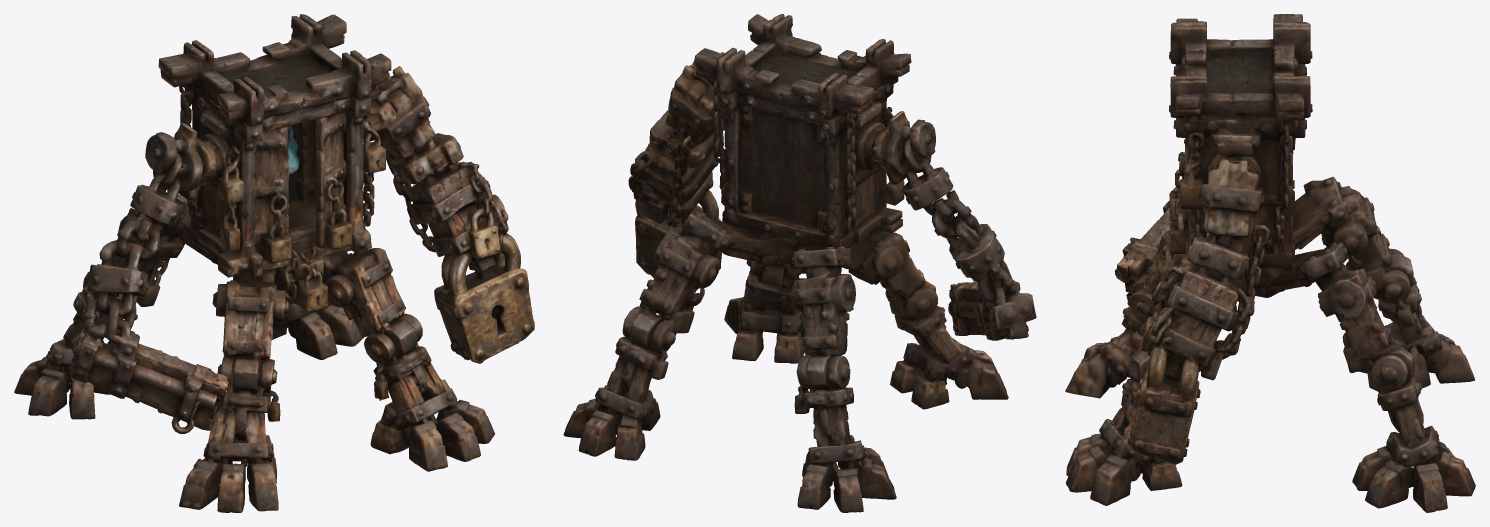
Rendered from latch_tripo_segmented.glb.
The picture shows the model from 3 angles, left to right: view 1: azimuth 30°, elevation 25°; view 2: azimuth 150°, elevation 25°; view 3: azimuth 270°, elevation 25°; orthographic projection. The views are drawn at different scales.
Parts seen in each view (by area): view 1: tripo_part_0, tripo_part_5, tripo_part_1, tripo_part_3, tripo_part_7, tripo_part_22, tripo_part_14, tripo_part_28, tripo_part_13, tripo_part_19, tripo_part_21, tripo_part_40 (+43 smaller); view 2: tripo_part_0, tripo_part_4, tripo_part_6, tripo_part_5, tripo_part_8, tripo_part_7, tripo_part_21, tripo_part_15, tripo_part_3, tripo_part_23, tripo_part_32, tripo_part_17 (+37 smaller); view 3: tripo_part_0, tripo_part_3, tripo_part_1, tripo_part_7, tripo_part_9, tripo_part_6, tripo_part_4, tripo_part_8, tripo_part_10, tripo_part_5, tripo_part_15, tripo_part_17 (+28 smaller).
Boxes of the visible parts, x1,y1,x2,y2 form: tripo_part_0: (158, 14, 391, 290); tripo_part_5: (69, 306, 228, 433); tripo_part_1: (434, 233, 534, 363); tripo_part_3: (408, 161, 508, 256); tripo_part_7: (363, 66, 435, 160); tripo_part_22: (332, 255, 404, 337); tripo_part_14: (254, 127, 288, 253); tripo_part_28: (226, 280, 276, 363); tripo_part_13: (314, 112, 346, 248); tripo_part_19: (373, 346, 449, 413); tripo_part_21: (124, 152, 186, 265); tripo_part_40: (145, 122, 202, 191); tripo_part_0: (694, 14, 911, 248); tripo_part_4: (792, 266, 855, 392); tripo_part_6: (629, 232, 719, 350); tripo_part_5: (948, 276, 1036, 340); tripo_part_8: (683, 211, 798, 266); tripo_part_7: (665, 61, 724, 148); tripo_part_21: (902, 138, 961, 249); tripo_part_15: (607, 336, 668, 402); tripo_part_3: (641, 143, 718, 219); tripo_part_23: (802, 386, 853, 446); tripo_part_32: (870, 232, 925, 303); tripo_part_17: (732, 297, 802, 360); tripo_part_0: (1169, 14, 1312, 276); tripo_part_3: (1147, 264, 1240, 371); tripo_part_1: (1127, 345, 1200, 464); tripo_part_7: (1198, 155, 1264, 252); tripo_part_9: (1365, 451, 1475, 512); tripo_part_6: (1314, 264, 1414, 392); tripo_part_4: (1321, 186, 1410, 303); tripo_part_8: (1253, 242, 1348, 297); tripo_part_10: (1293, 176, 1348, 247); tripo_part_5: (1114, 187, 1177, 305); tripo_part_15: (1377, 377, 1425, 446); tripo_part_17: (1099, 419, 1182, 490).
Bounding box in the file's own units: 1 × 0.8326 × 0.8029.
Materials: 1 (1 with a texture image).
